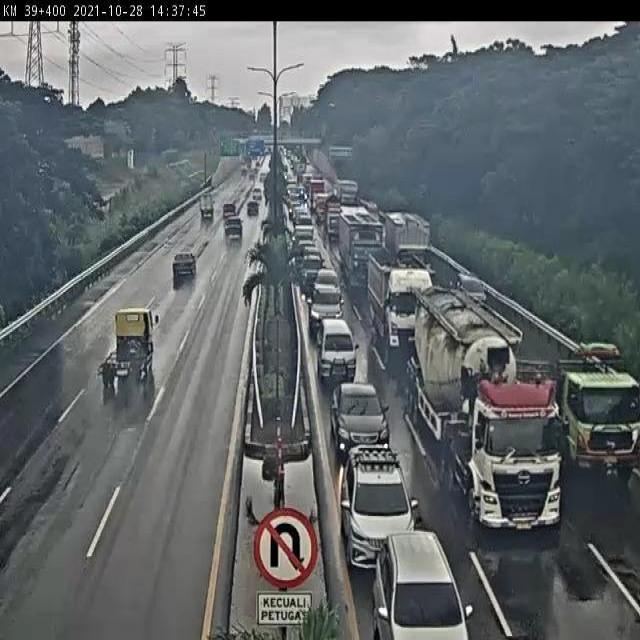big truck: (412, 293, 572, 535), (544, 328, 640, 492), (360, 247, 436, 349), (338, 210, 384, 282), (383, 207, 433, 272)
car: (366, 526, 476, 640), (342, 453, 419, 571), (329, 373, 399, 468), (313, 316, 371, 399), (164, 243, 211, 305), (303, 280, 349, 341), (447, 263, 486, 301), (220, 221, 242, 251), (219, 195, 240, 224), (242, 202, 261, 222), (250, 187, 265, 205)
small truck: (97, 293, 167, 412), (194, 188, 217, 228)
